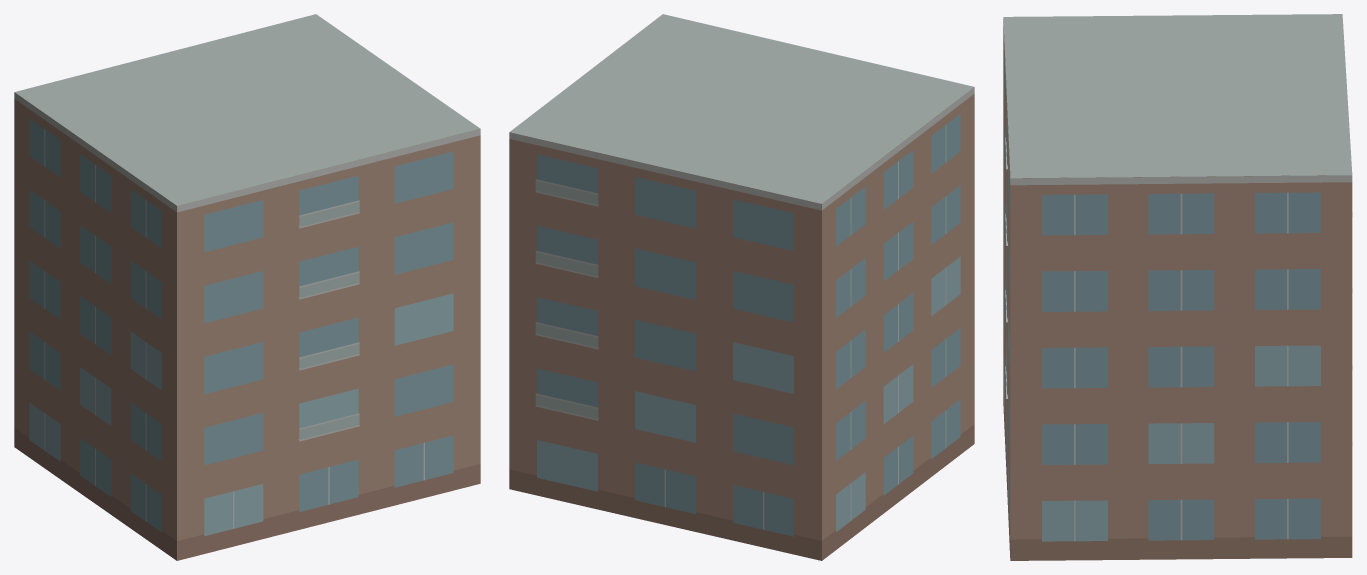
Rendered from survey-upis-32889558.glb.
The picture shows the model from 3 angles, left to right: view 1: azimuth 30°, elevation 25°; view 2: azimuth 150°, elevation 25°; view 3: azimuth 270°, elevation 25°; orthographic projection. The views are drawn at different scales.
Visible parts, largest first — view 1: survey-upis-32889558.tmp; view 2: survey-upis-32889558.tmp; view 3: survey-upis-32889558.tmp.
Boxes of the visible parts, left/top/right/bottom form: survey-upis-32889558.tmp: left=14, top=14, right=480, bottom=560; survey-upis-32889558.tmp: left=509, top=14, right=974, bottom=560; survey-upis-32889558.tmp: left=1003, top=14, right=1352, bottom=560.
Size of the model in its own units: 12.16 by 13.2 by 10.93.
